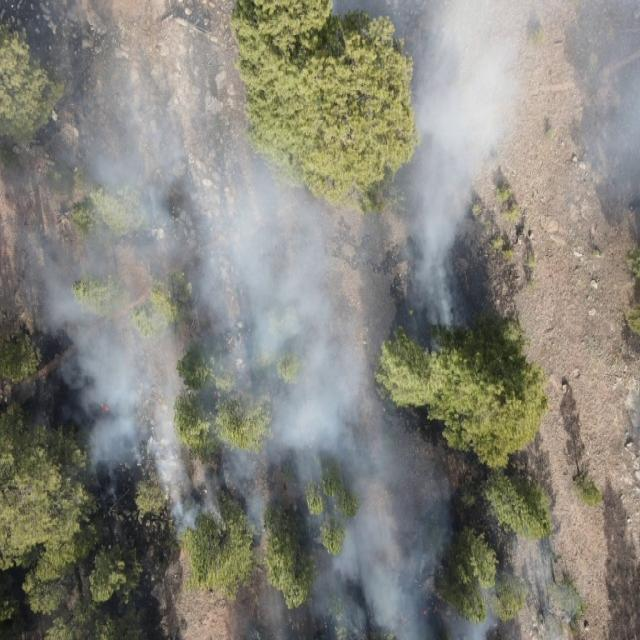fire: (97, 400, 112, 415), (422, 602, 434, 617), (398, 613, 409, 627)
smoke: (0, 0, 487, 511), (245, 511, 575, 640), (486, 0, 640, 226), (166, 512, 228, 540)
